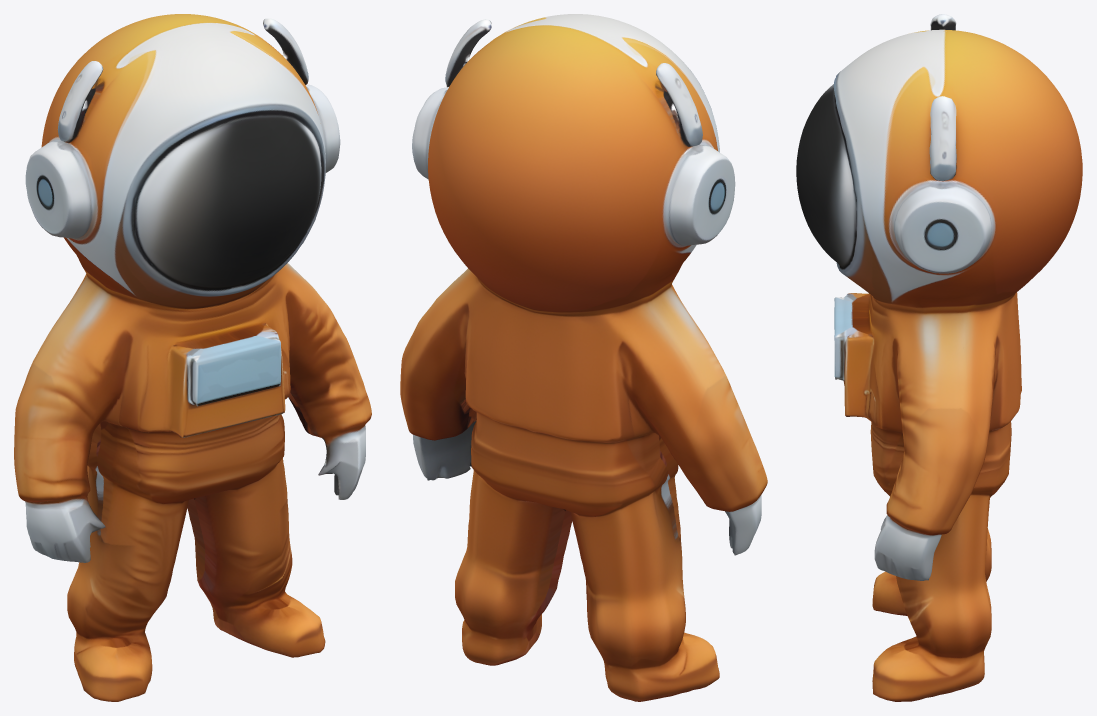
Rendered from base_basic_shaded_astronault.glb.
The picture shows the model from 3 angles, left to right: view 1: azimuth 30°, elevation 25°; view 2: azimuth 150°, elevation 25°; view 3: azimuth 270°, elevation 25°; orthographic projection. The views are drawn at different scales.
Parts seen in each view (by area): view 1: model; view 2: model; view 3: model.
Part boxes in pixels (bbox=[...]): model: bbox=[14, 14, 371, 701]; model: bbox=[400, 14, 767, 701]; model: bbox=[796, 14, 1082, 701].
Bounding box in the file's own units: 1.09 × 1.91 × 0.8165.
Materials: 1 (1 with a texture image).
